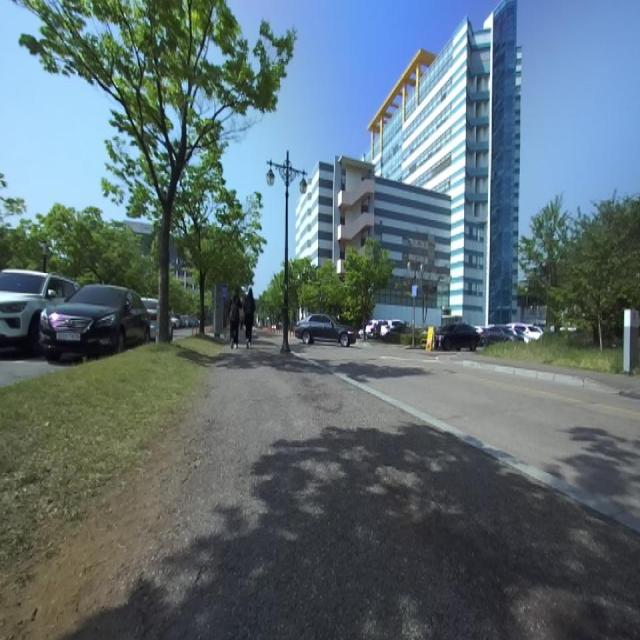sidewalk: (144, 351, 640, 638)
